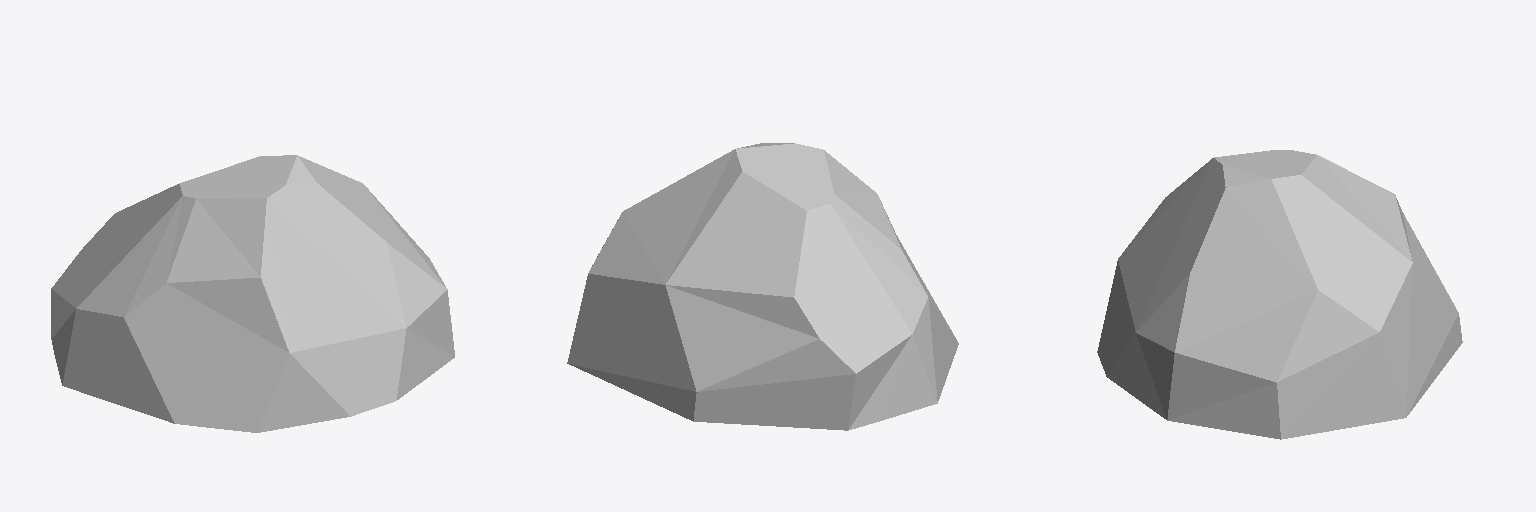
The model's file is Mountain_2.obj.
3 renders of one model, left to right at view 1: azimuth 30°, elevation 25°; view 2: azimuth 150°, elevation 25°; view 3: azimuth 270°, elevation 25°, orthographic.
Visible parts, largest first — view 1: Rock.008_Rock.014; view 2: Rock.008_Rock.014; view 3: Rock.008_Rock.014.
Boxes of the visible parts, x1,y1,x2,y2 form: Rock.008_Rock.014: [51, 155, 454, 432]; Rock.008_Rock.014: [567, 143, 958, 430]; Rock.008_Rock.014: [1097, 150, 1462, 439].
Size of the model in its own units: 58.56 by 29.26 by 51.